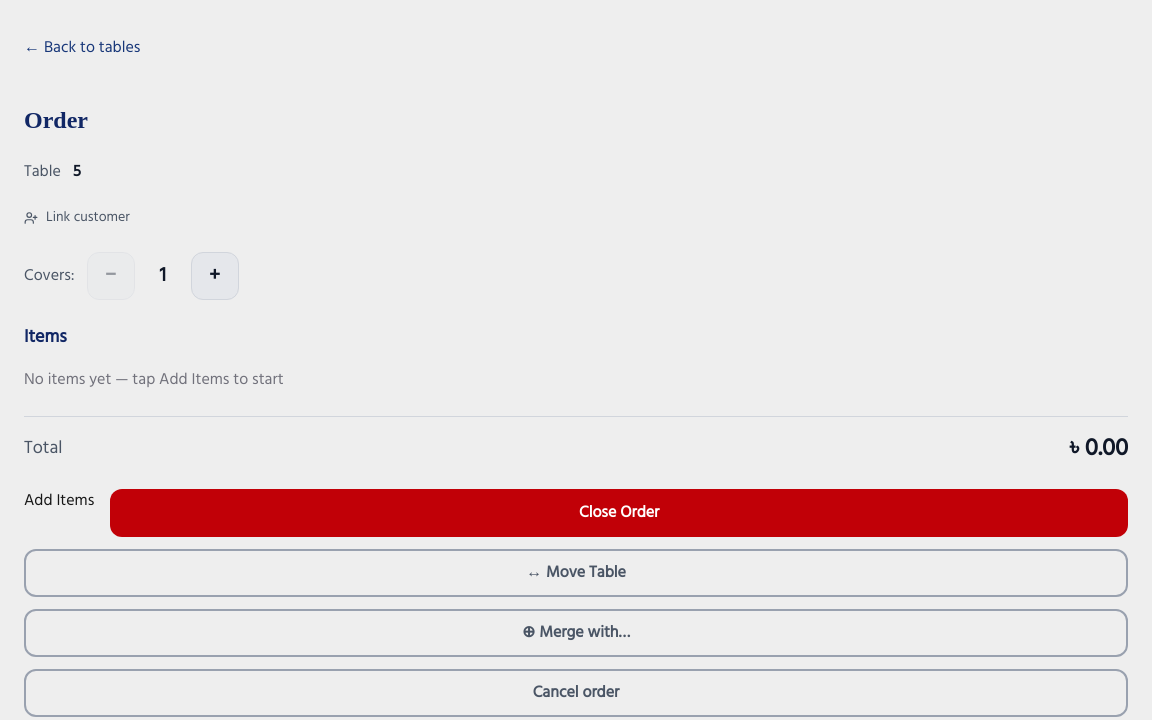
Test: OrderDetailClient › cancel order › tapping Cancel order opens the cancel dialog
Step 1. Click the button "Cancel order" → (576, 693), box [24, 669, 1128, 717]
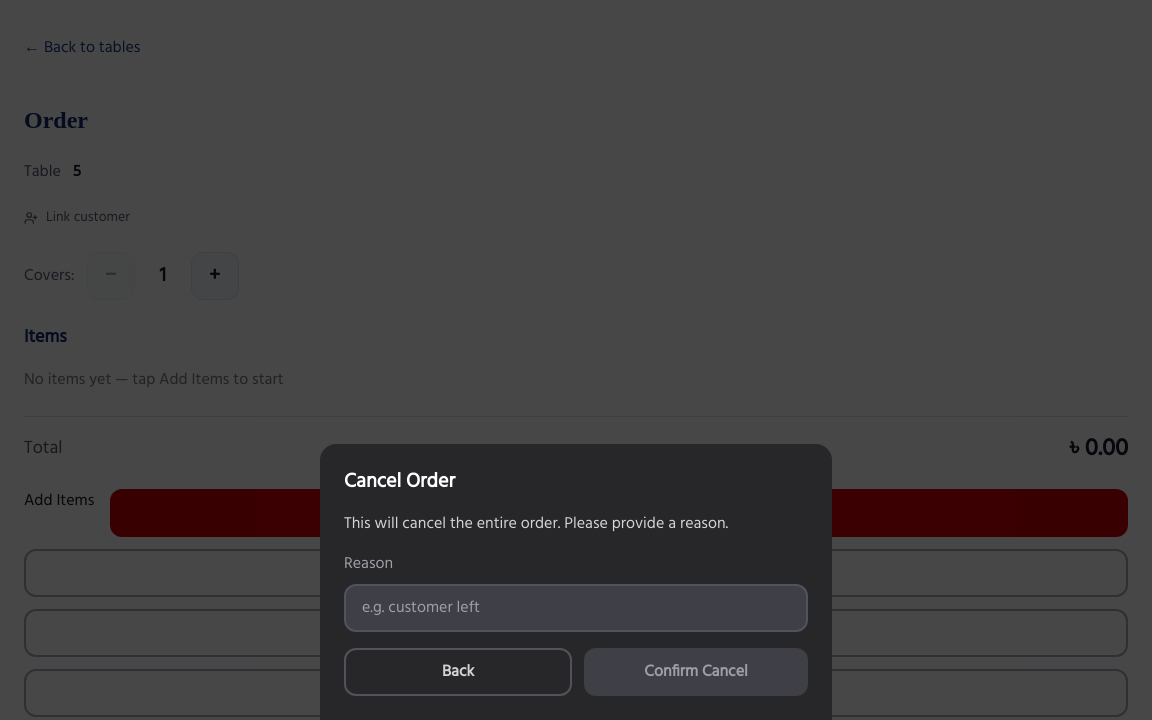
Expected: the heading "Cancel Order" is shown, [344, 466, 455, 498]
Expected: the field with placeholder "e.g. customer left" is shown, [344, 584, 808, 632]
